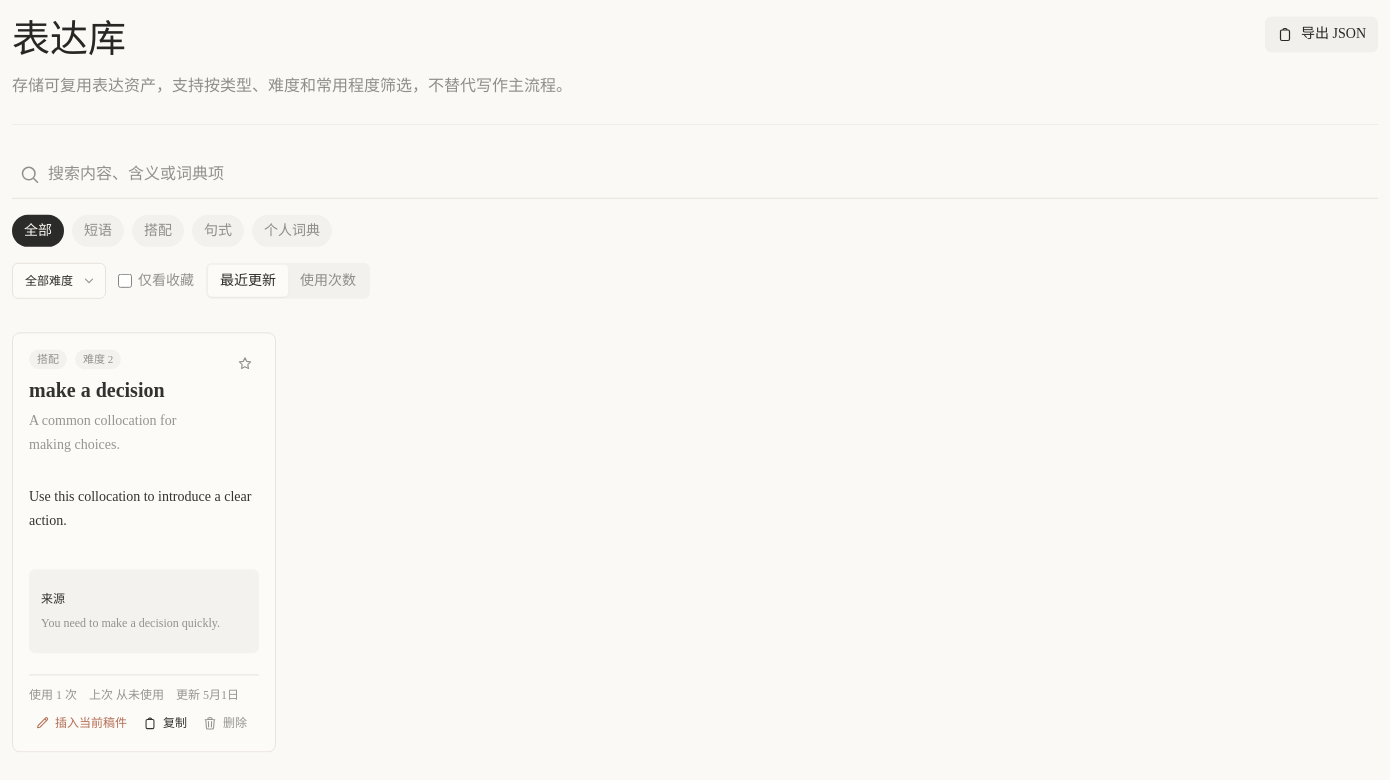
it: LearningLibraryPanel › shows action feedback when deleting a personal dictionary term
Click the button "个人词典": (292, 228) [252,212,332,244]
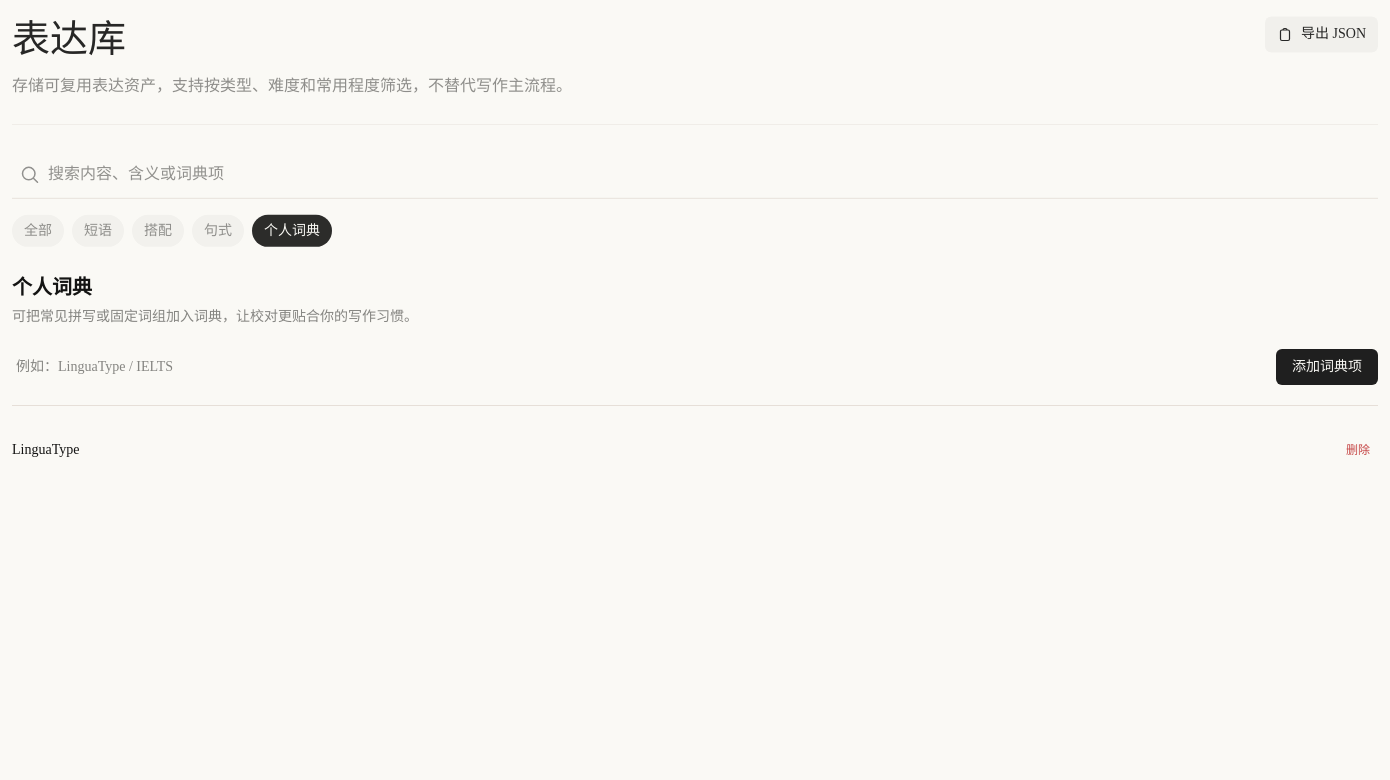
Click the button with aria-label "删除 LinguaType": (1358, 450) [1338,438,1378,462]
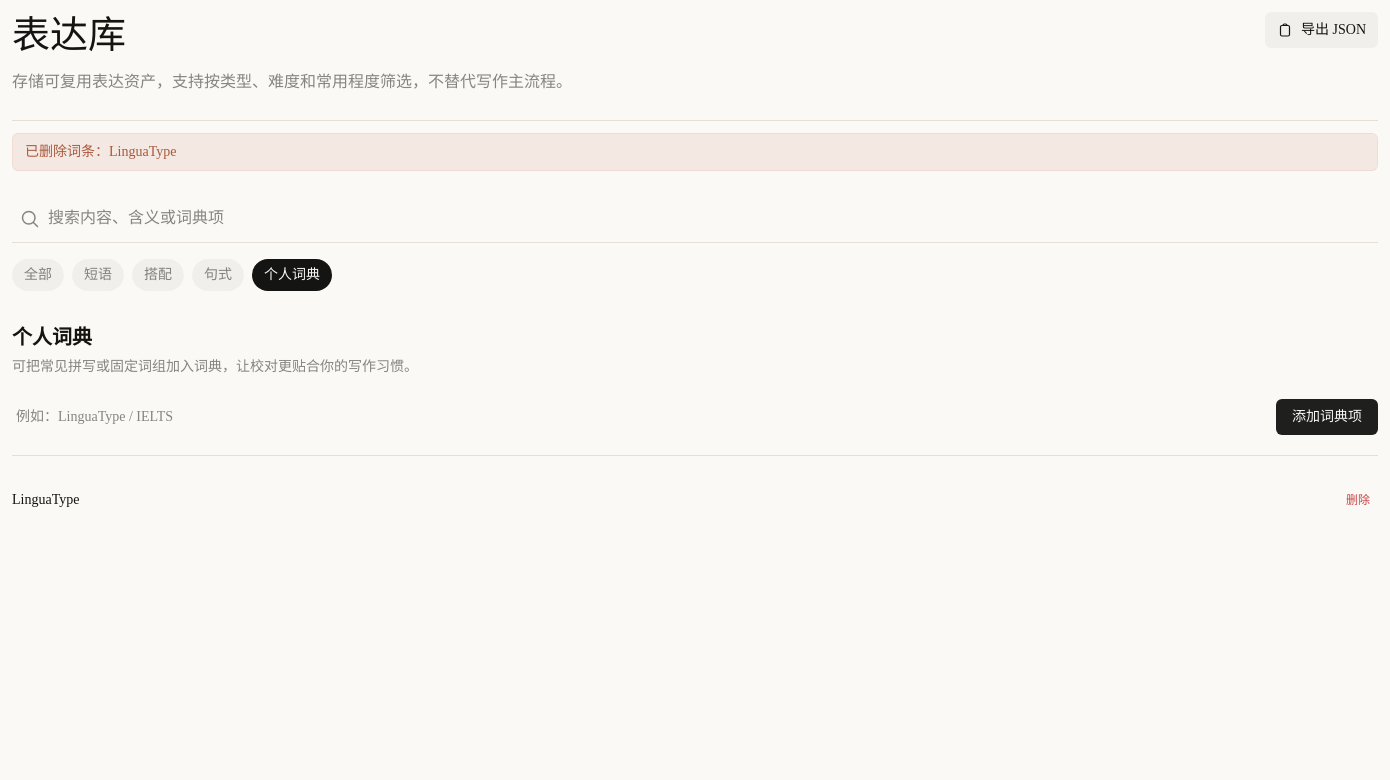
Check: the message shows "LinguaType", box [25,144,176,158]
